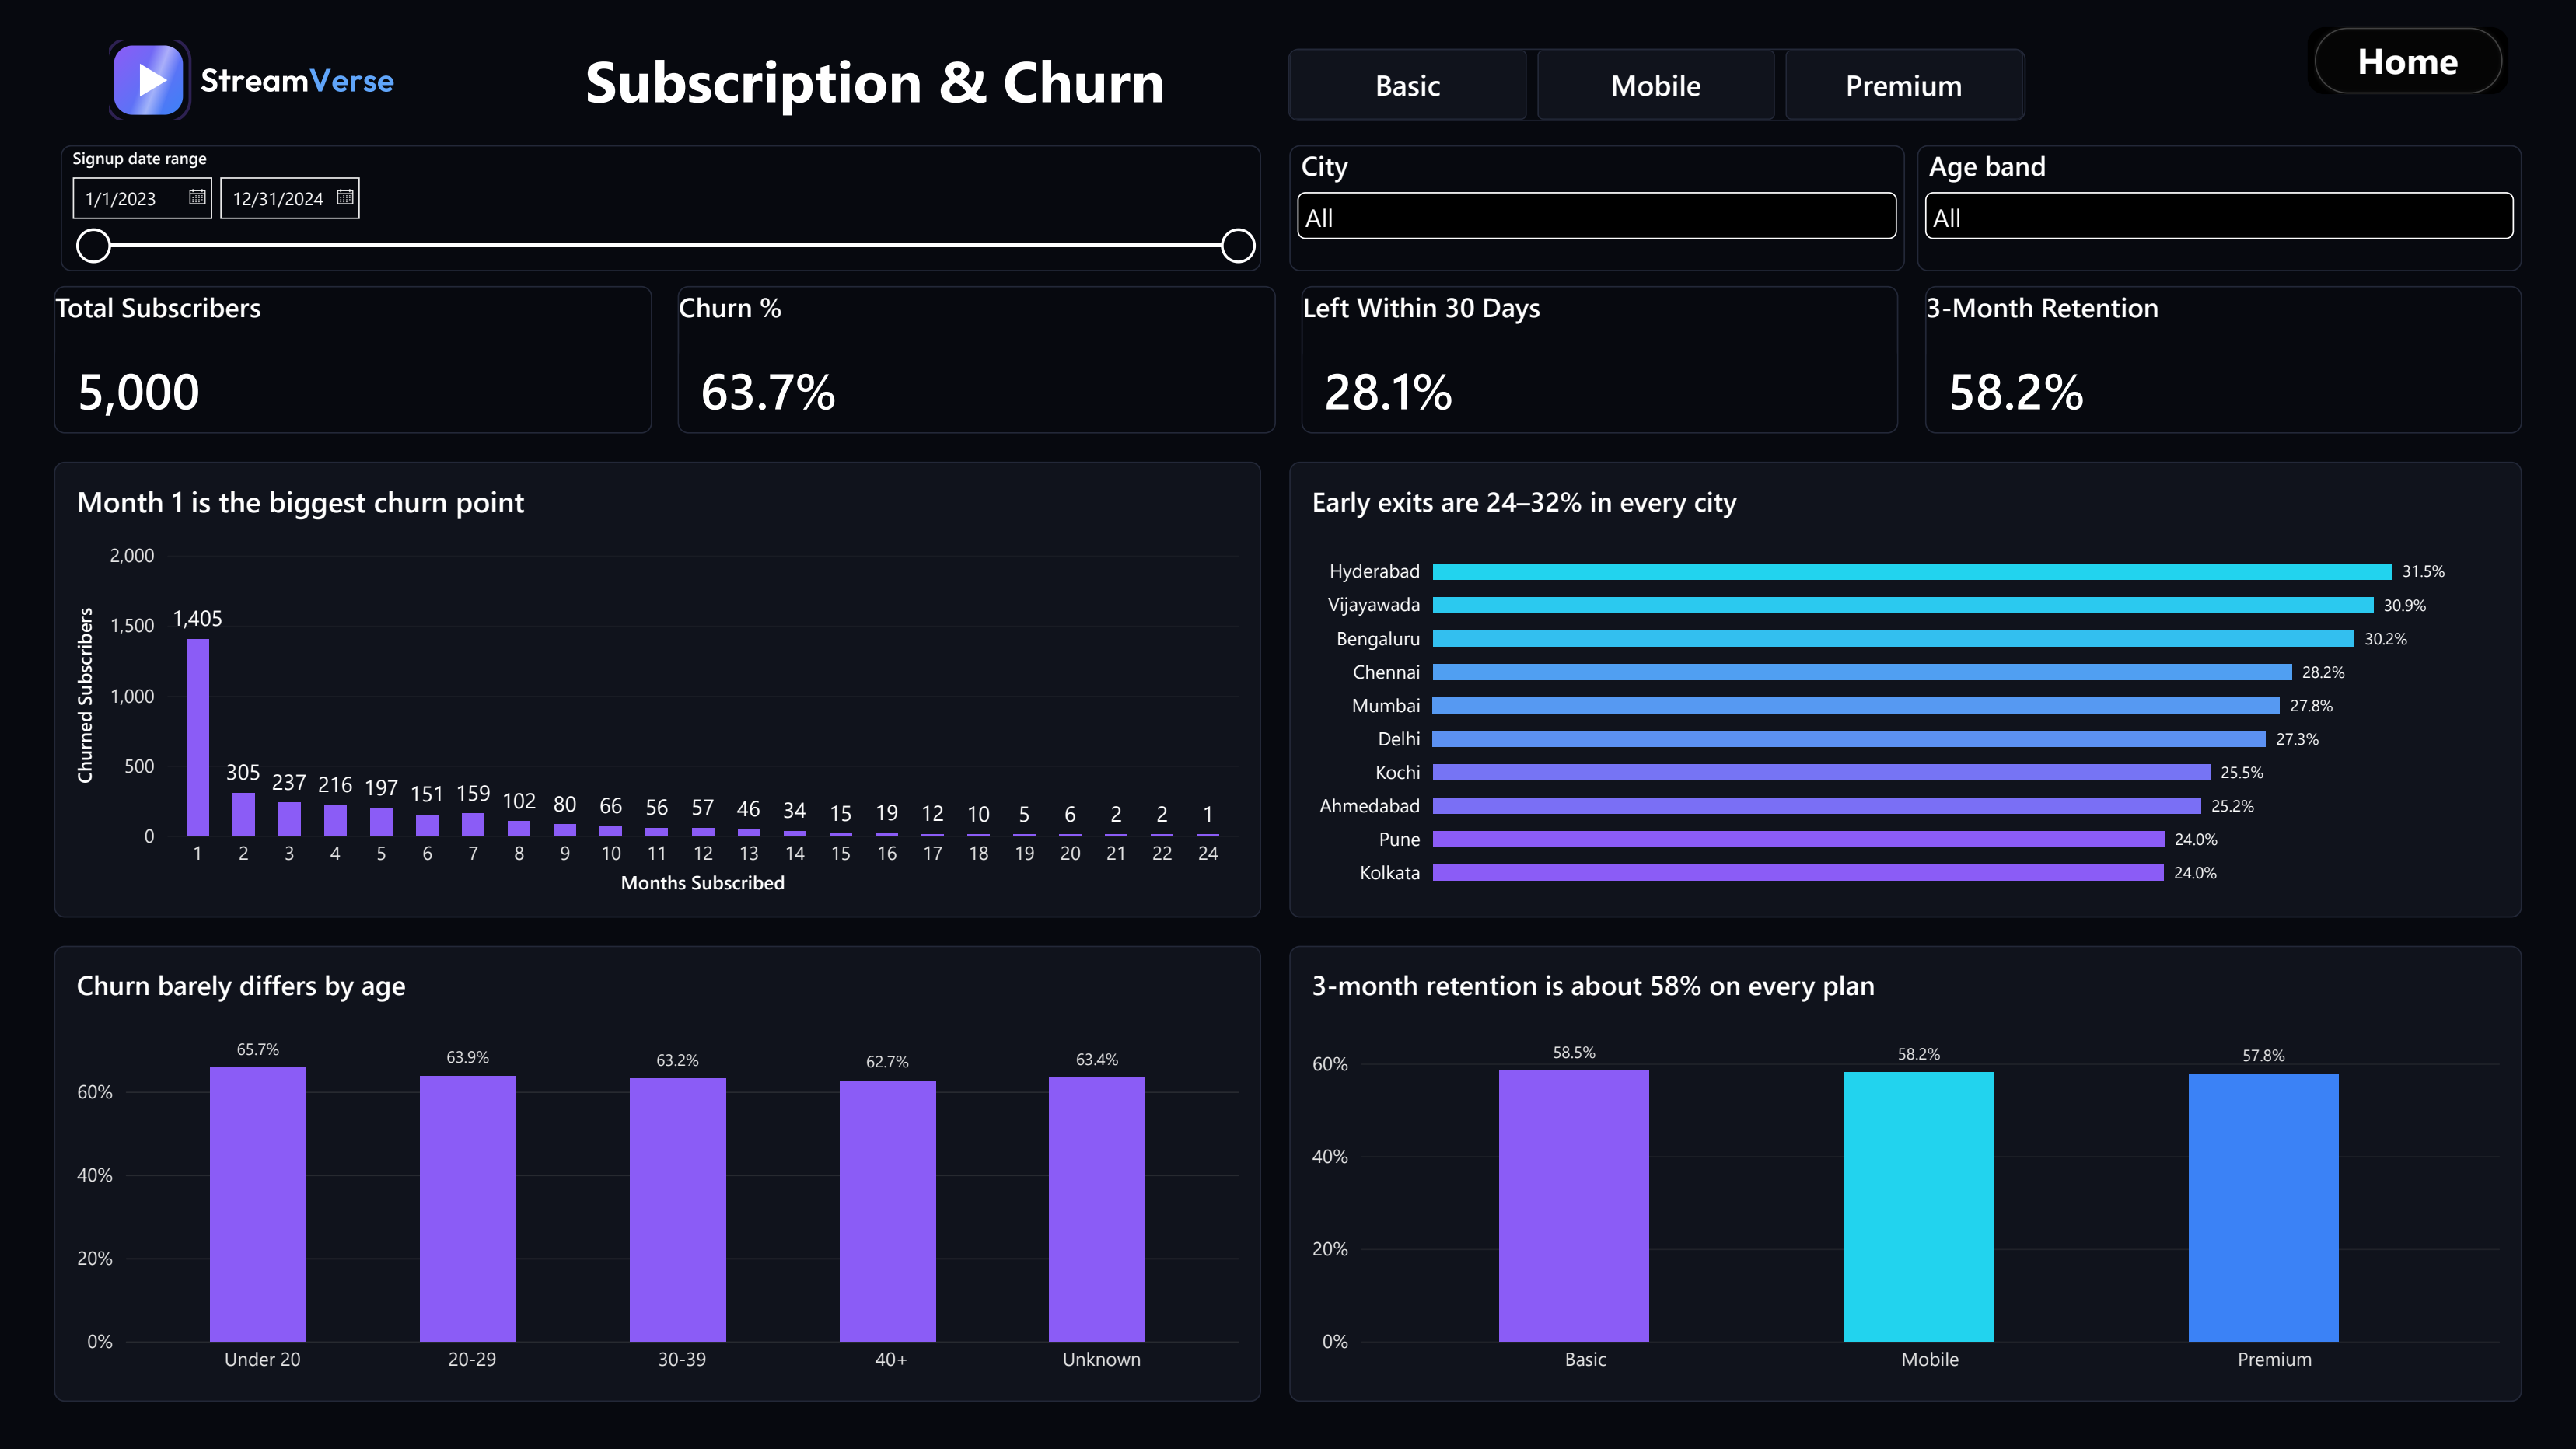

The page's visual inventory and layout, read from the dashboard file:
{"tool":"powerbi","page":{"name":"Subscription & Churn","canvas":[1920,1080],"ordinal":4},"visuals":[{"type":"image","box":[40,30,300,59],"z":0},{"type":"textbox","box":[435.7,30,446.7,60],"z":1000},{"type":"advancedSlicerVisual","fields":{"Values":["Plan.plan_name"]},"box":[960,36,550,54],"z":2000},{"type":"actionButton","box":[1720,20,150,50],"z":3000},{"type":"barChart","title":"Early exits are 24–32% in every city","fields":{"Category":["Users.city"],"Y":["Subscriptions.Left Within 30 Days %"]},"box":[960.7,344.2,918.8,339.7],"z":4000},{"type":"slicer","fields":{"Values":["Date.full_date"]},"box":[44.9,107.7,894.9,94.3],"z":5000},{"type":"slicer","fields":{"Values":["Users.age_band"]},"box":[1429.2,107.7,450.4,94.3],"z":6000},{"type":"slicer","fields":{"Values":["Users.city"]},"box":[960.7,107.7,459.4,94.3],"z":7000},{"type":"cardVisual","title":"Total Subscribers","fields":{"Data":["Subscriptions.Total Subscribers"]},"box":[40,212.5,446,110.2],"z":8000},{"type":"clusteredColumnChart","title":"Month 1 is the biggest churn point","fields":{"Category":["Subscriptions.Months Subscribed"],"Y":["Subscriptions.Churned Subscribers"]},"box":[40.4,344.2,900,340],"z":9000},{"type":"cardVisual","title":"Churn %","fields":{"Data":["Subscriptions.Churn %"]},"box":[505,212.5,446,110.7],"z":10000},{"type":"cardVisual","title":"Left Within 30 Days","fields":{"Data":["Subscriptions.Left Within 30 Days %"]},"box":[970,212.5,445,110.7],"z":11000},{"type":"cardVisual","title":"3-Month Retention","fields":{"Data":["Subscriptions.3-Month Retention %"]},"box":[1435.1,212.5,445,110.2],"z":12000},{"type":"clusteredColumnChart","title":"Churn barely differs by age","fields":{"Category":["Users.age_band"],"Y":["Subscriptions.Churn %"]},"box":[40.4,704.8,900,340],"z":13000},{"type":"clusteredColumnChart","title":"3-month retention is about 58% on every plan","fields":{"Category":["Plan.plan_name"],"Y":["Subscriptions.3-Month Retention %"]},"box":[960.7,704.8,918.8,339.7],"z":14000}]}

Visuals, with their boxes in screenshot pixels (x1, y1, x2, y2), scaled from the page's 1920x1080 canvas onto the 2576x1449 screenshot:
image: rect(54, 40, 456, 120)
textbox: rect(585, 40, 1184, 120)
advancedSlicerVisual - Plan.plan_name: rect(1288, 48, 2026, 120)
actionButton: rect(2308, 27, 2509, 94)
"Early exits are 24–32% in every city" barChart: rect(1289, 462, 2522, 917)
slicer - Date.full_date: rect(60, 145, 1261, 271)
slicer - Users.age_band: rect(1917, 145, 2522, 271)
slicer - Users.city: rect(1289, 145, 1905, 271)
"Total Subscribers" cardVisual: rect(54, 285, 652, 433)
"Month 1 is the biggest churn point" clusteredColumnChart: rect(54, 462, 1262, 918)
"Churn %" cardVisual: rect(677, 285, 1276, 434)
"Left Within 30 Days" cardVisual: rect(1302, 285, 1899, 434)
"3-Month Retention" cardVisual: rect(1925, 285, 2522, 433)
"Churn barely differs by age" clusteredColumnChart: rect(54, 945, 1262, 1402)
"3-month retention is about 58% on every plan" clusteredColumnChart: rect(1289, 945, 2522, 1402)
